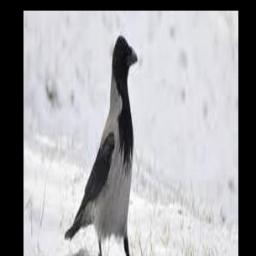Crow: (64, 33, 138, 256)
